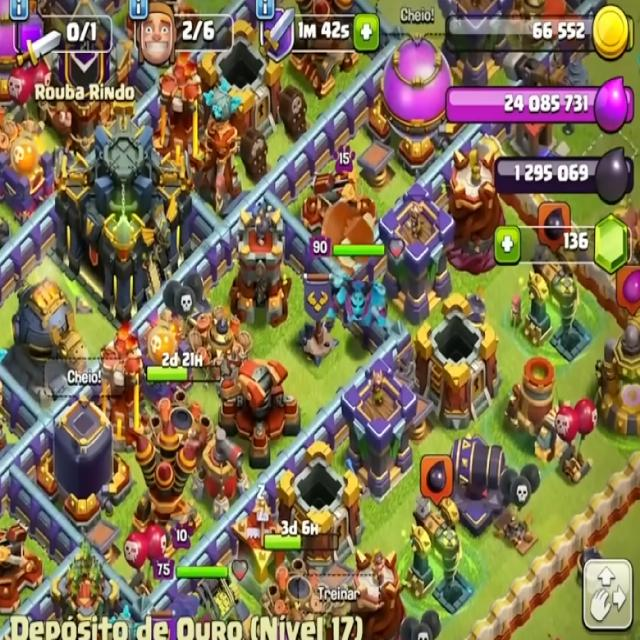FullElixirNegro: (421, 454, 453, 506), (538, 202, 571, 226)
